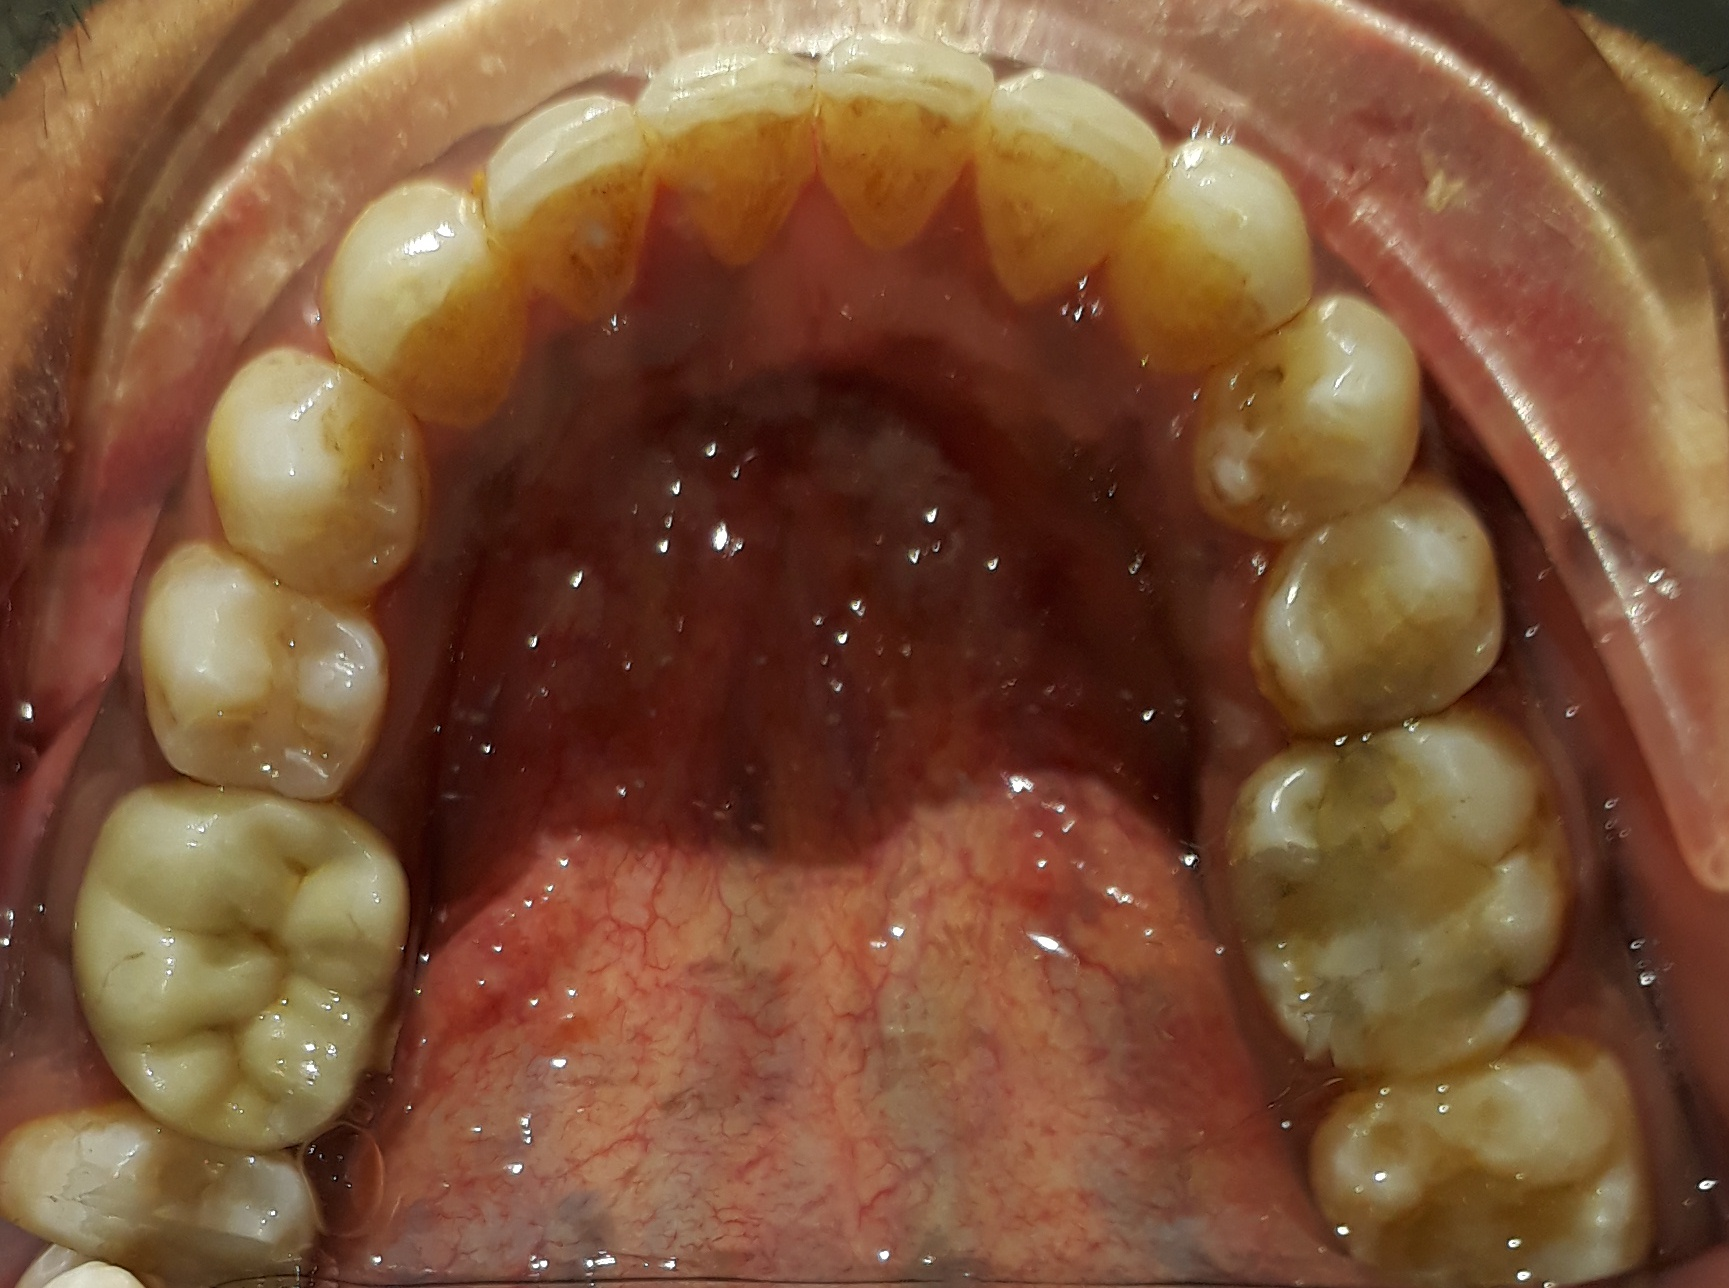1st Molar: (1222, 724, 1577, 1066), (74, 781, 400, 1146)
1st Premolar: (198, 341, 438, 589), (1195, 290, 1419, 526)
2nd Molar: (1316, 1047, 1649, 1288), (0, 1113, 322, 1283)
2nd Premolar: (1260, 475, 1508, 728), (142, 541, 387, 796)
Canine: (322, 176, 530, 414), (1116, 139, 1310, 365)
Central Incisor: (649, 41, 825, 275), (825, 32, 984, 271)
Lateral Incisor: (989, 62, 1155, 318), (494, 87, 647, 318)
